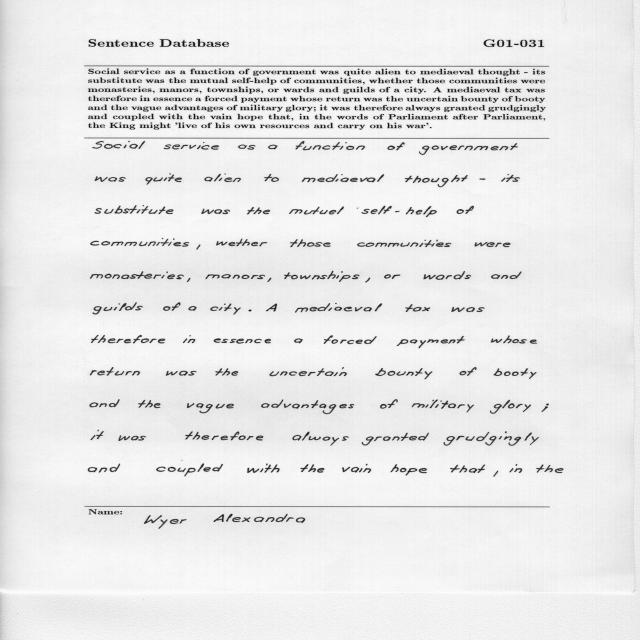word: (444, 431, 539, 446), (261, 400, 354, 414), (419, 143, 518, 155), (91, 238, 189, 247), (357, 206, 437, 217), (362, 433, 429, 446), (295, 303, 382, 313), (285, 271, 360, 282), (397, 336, 465, 348), (412, 400, 474, 413), (156, 464, 223, 476), (292, 432, 349, 446), (405, 175, 468, 187), (90, 272, 184, 280), (269, 368, 347, 377), (186, 432, 264, 441), (92, 335, 166, 344), (357, 240, 451, 247), (302, 174, 384, 182), (375, 368, 433, 379), (95, 206, 173, 214), (296, 141, 365, 150), (93, 303, 143, 315), (490, 400, 531, 414), (324, 335, 377, 344), (494, 368, 537, 379), (187, 403, 234, 413), (90, 367, 140, 376), (164, 142, 219, 150), (289, 207, 344, 215), (424, 271, 472, 280), (391, 464, 427, 476), (93, 141, 145, 149), (145, 174, 182, 185), (491, 336, 537, 344), (216, 239, 267, 246), (210, 304, 241, 315), (290, 239, 330, 247), (247, 464, 280, 473), (204, 174, 241, 182), (206, 274, 265, 279), (88, 464, 120, 473), (214, 339, 271, 344), (450, 465, 485, 473), (342, 464, 371, 473), (491, 271, 522, 279), (90, 400, 119, 408), (301, 464, 325, 473), (537, 465, 564, 473), (406, 304, 431, 312), (95, 176, 126, 182), (216, 368, 239, 376), (138, 400, 161, 408), (475, 242, 511, 247), (451, 307, 485, 312), (118, 435, 146, 441), (163, 302, 181, 311), (380, 400, 398, 409), (247, 207, 270, 214), (460, 367, 477, 376), (501, 174, 520, 182), (166, 371, 196, 376), (201, 209, 230, 214), (387, 143, 405, 151), (457, 206, 474, 214), (91, 430, 104, 440), (264, 174, 279, 182), (510, 464, 522, 473), (183, 335, 195, 343), (238, 145, 256, 150), (266, 304, 277, 312), (384, 274, 401, 279), (542, 403, 549, 412), (188, 306, 197, 311), (294, 339, 303, 344), (268, 145, 278, 149), (494, 471, 499, 477), (366, 278, 371, 283), (197, 245, 201, 250), (268, 278, 272, 282), (480, 178, 486, 180), (187, 278, 190, 282), (249, 310, 252, 312)
